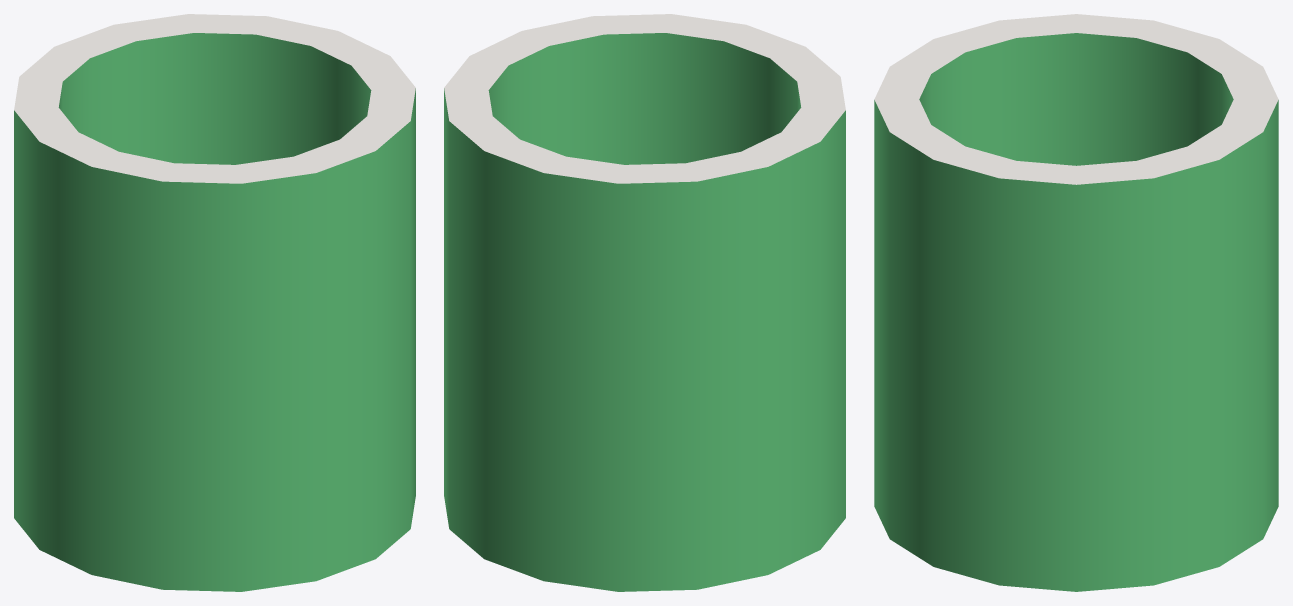
The model's file is PipeBlock.glb.
3 views of the same model, side by side, from view 1: azimuth 30°, elevation 25°; view 2: azimuth 150°, elevation 25°; view 3: azimuth 270°, elevation 25° (orthographic).
Visible parts, largest first — view 1: Pipe, object1, Hidden; view 2: Pipe, object1, Hidden; view 3: Pipe, object1, Hidden.
Part boxes in pixels (x1,y1,x2,y2): Pipe: [14, 88, 415, 591]; object1: [58, 33, 371, 164]; Hidden: [14, 14, 415, 183]; Pipe: [444, 88, 845, 591]; object1: [488, 33, 801, 164]; Hidden: [444, 14, 845, 183]; Pipe: [874, 100, 1278, 591]; object1: [919, 33, 1233, 165]; Hidden: [874, 14, 1278, 184].
Size of the model in its own units: 2.25 by 2.5 by 2.25.
